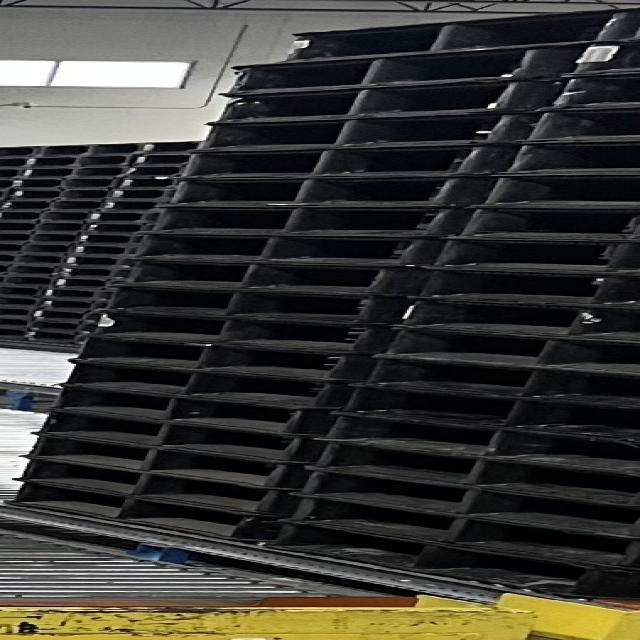igps: (253, 521, 640, 603), (272, 493, 640, 569), (279, 468, 640, 538), (213, 38, 640, 96), (225, 6, 640, 64), (295, 439, 640, 506), (299, 411, 640, 473), (316, 385, 640, 439), (2, 479, 273, 541), (9, 456, 286, 516), (12, 432, 295, 490), (337, 355, 640, 407), (27, 409, 310, 464), (201, 77, 526, 124), (72, 310, 378, 358), (55, 360, 344, 410), (179, 109, 515, 151), (51, 384, 322, 436), (63, 335, 366, 381), (361, 326, 640, 375), (90, 283, 380, 327), (101, 257, 413, 296), (375, 297, 640, 342), (165, 142, 488, 177), (130, 205, 459, 238), (396, 267, 640, 309), (126, 232, 436, 264), (148, 177, 459, 208), (409, 237, 640, 275), (428, 205, 640, 241), (454, 174, 640, 208), (482, 141, 640, 175), (505, 108, 640, 142), (522, 74, 640, 108), (34, 142, 144, 156), (29, 154, 130, 167), (0, 199, 103, 211), (11, 188, 110, 200), (20, 167, 124, 177), (52, 276, 130, 289), (16, 178, 117, 188), (0, 220, 84, 232), (59, 266, 135, 279), (28, 331, 85, 348), (0, 210, 88, 221), (70, 243, 139, 257), (80, 232, 146, 246), (66, 255, 137, 268), (84, 222, 158, 234), (0, 241, 73, 253), (42, 288, 115, 300), (32, 309, 105, 321), (0, 231, 79, 242), (100, 200, 172, 212), (109, 188, 180, 200), (92, 210, 163, 222), (30, 320, 99, 332), (38, 299, 112, 310), (0, 253, 66, 265), (117, 177, 179, 189), (130, 153, 190, 165), (7, 263, 59, 276), (122, 166, 182, 177), (0, 274, 54, 286), (142, 142, 200, 153), (0, 283, 42, 296), (0, 295, 37, 307), (0, 327, 30, 341), (0, 305, 33, 317), (0, 317, 31, 328)
